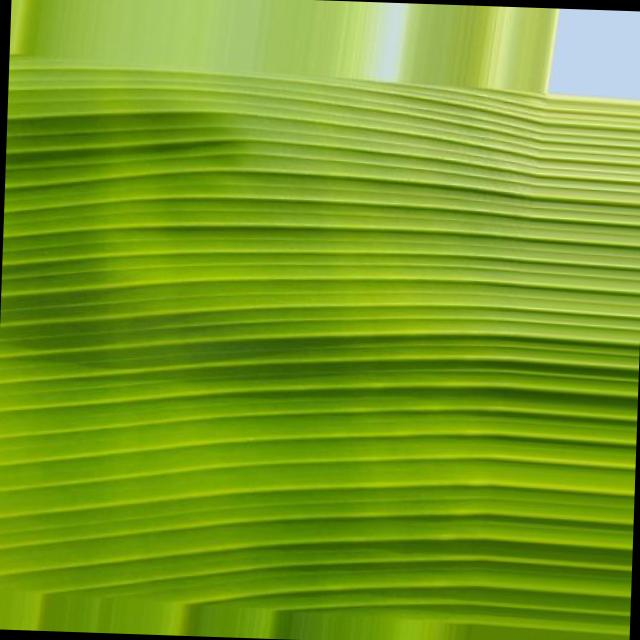Banana_Healthy: (23, 55, 640, 640)
